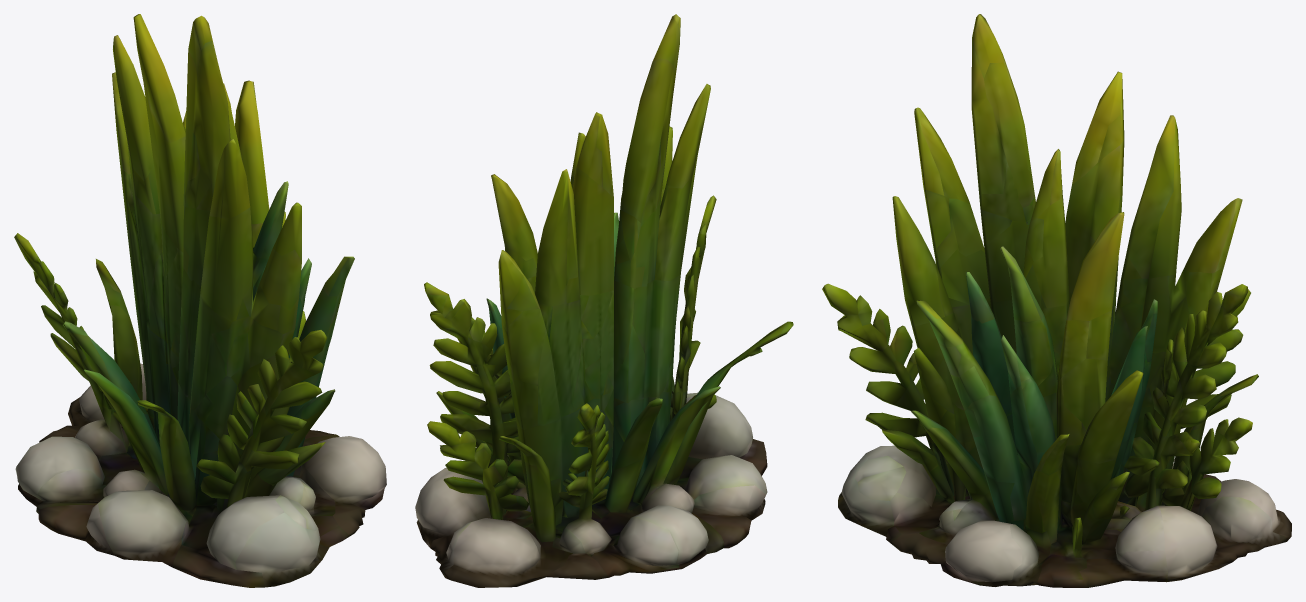
File: sh03-raingarden-reeds.glb
The picture shows the model from 3 angles, left to right: view 1: azimuth 30°, elevation 25°; view 2: azimuth 150°, elevation 25°; view 3: azimuth 270°, elevation 25°; orthographic projection. The views are drawn at different scales.
Parts seen in each view (by area): view 1: tripo_node_9b5a4f64-26f4-4e45-a22e-fa29cb672260; view 2: tripo_node_9b5a4f64-26f4-4e45-a22e-fa29cb672260; view 3: tripo_node_9b5a4f64-26f4-4e45-a22e-fa29cb672260.
Part boxes in pixels (<box>): tripo_node_9b5a4f64-26f4-4e45-a22e-fa29cb672260: <box>14,14,386,587</box>; tripo_node_9b5a4f64-26f4-4e45-a22e-fa29cb672260: <box>415,14,793,587</box>; tripo_node_9b5a4f64-26f4-4e45-a22e-fa29cb672260: <box>822,14,1291,587</box>.
Size of the model in its own units: 0.6191 by 0.9995 by 0.8729.
Materials: 1 (1 with a texture image).
